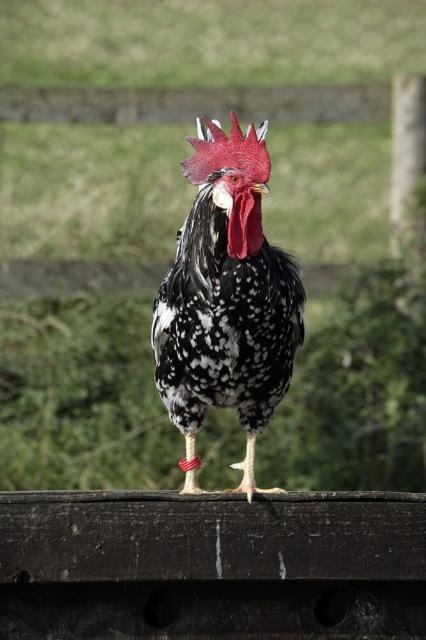Chicken: (151, 112, 307, 502)
